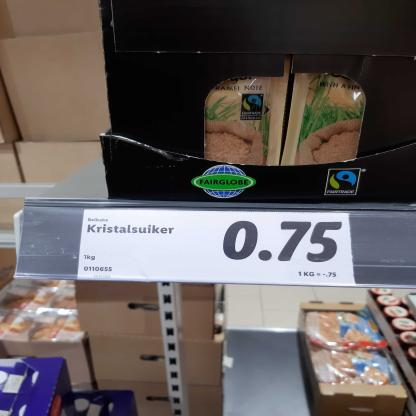prtg: (78, 211, 357, 288)
